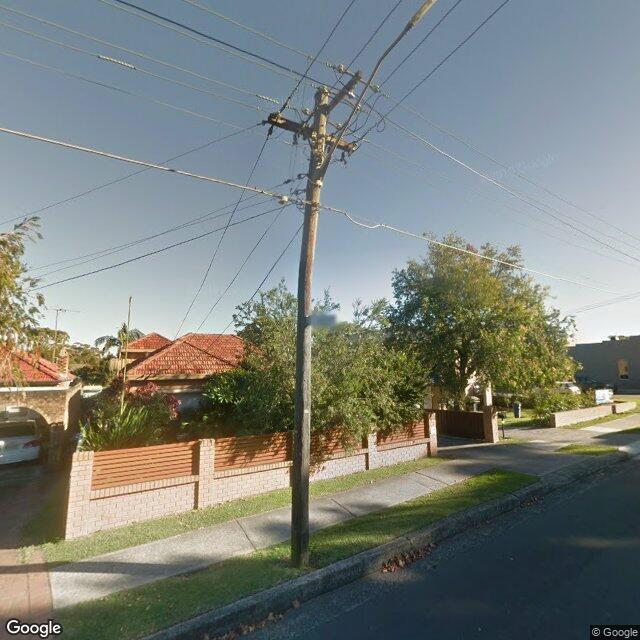crossarm: (301, 64, 364, 140), (267, 112, 356, 155)
streetlight: (318, 0, 438, 185)
timber-pole: (290, 85, 328, 570)
